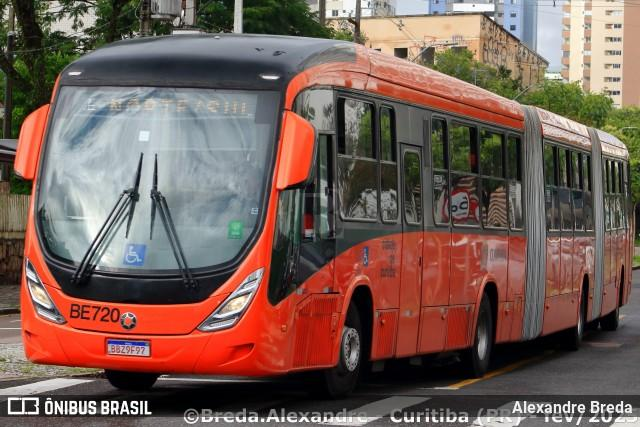NORTE SUL: (101, 90, 257, 121)
